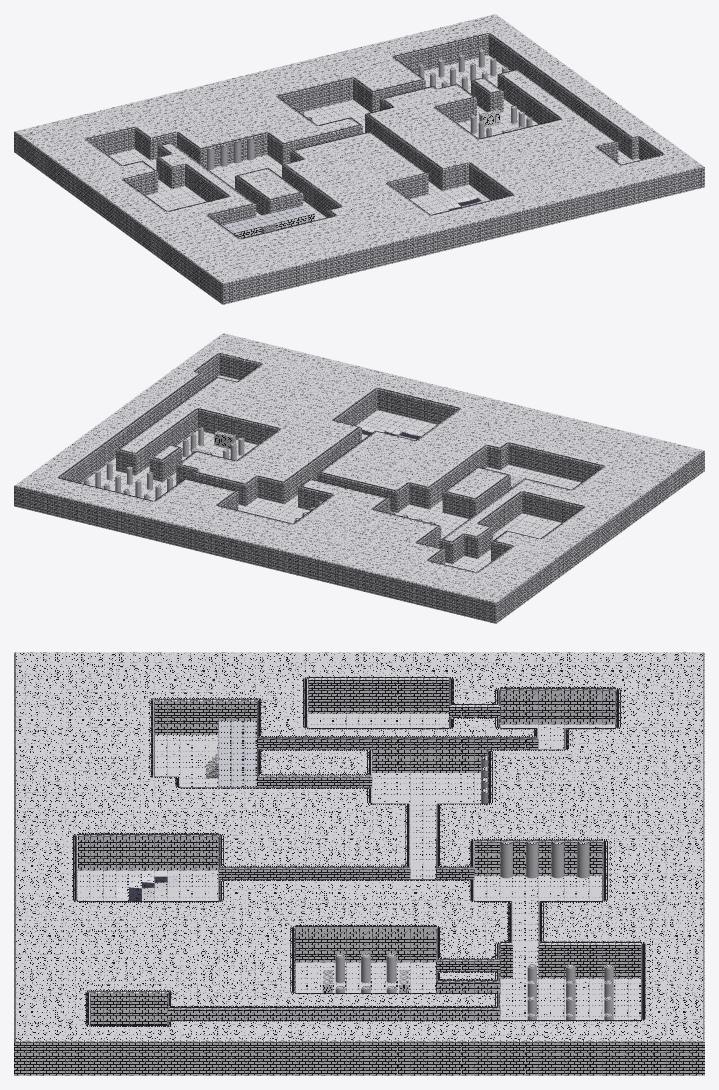
File: ink.glb
The picture shows the model from 3 angles, top to bottom: view 1: azimuth 30°, elevation 25°; view 2: azimuth 150°, elevation 25°; view 3: azimuth 270°, elevation 25°; orthographic projection. The views are drawn at different scales.
Parts seen in each view (by area): view 1: PB_ink_Tilemap_ink; view 2: PB_ink_Tilemap_ink; view 3: PB_ink_Tilemap_ink.
Part boxes in pixels (<box>): PB_ink_Tilemap_ink: <box>14,14,704,304</box>; PB_ink_Tilemap_ink: <box>14,333,704,623</box>; PB_ink_Tilemap_ink: <box>14,652,704,1075</box>.
Size of the model in its own units: 72 by 3.17 by 54.
Materials: 2 (1 with a texture image).
